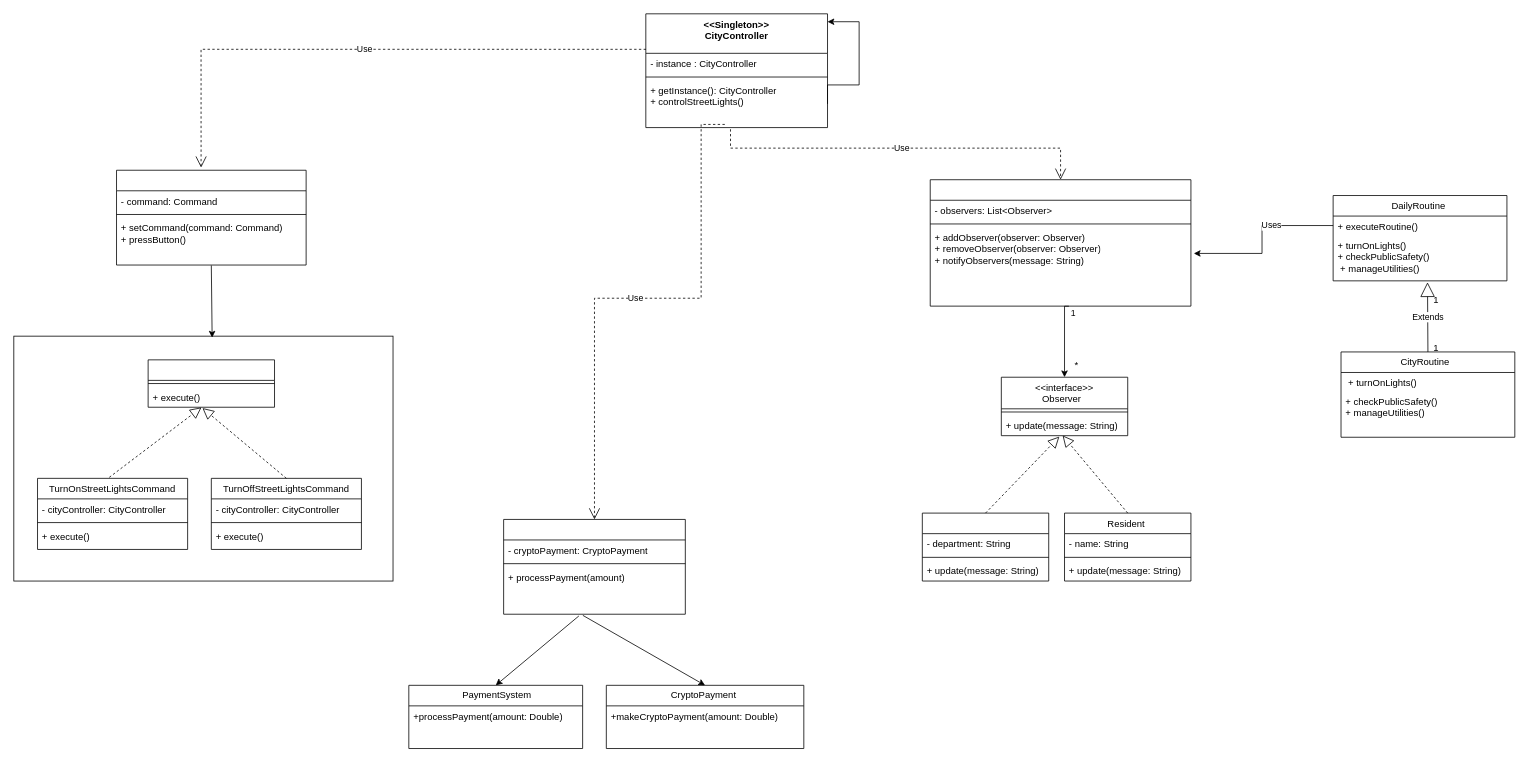
Some shapes in this 1529 by 765 pixel diagram are drawn without their labels. Each missing label, with the box of its shape:
Authority: (922, 512, 1049, 581)
CityMonitor: (929, 179, 1191, 306)
Command: (147, 359, 275, 407)
CryptoPaymentAdapter: (503, 519, 685, 614)
RemoteControl: (116, 169, 306, 265)
